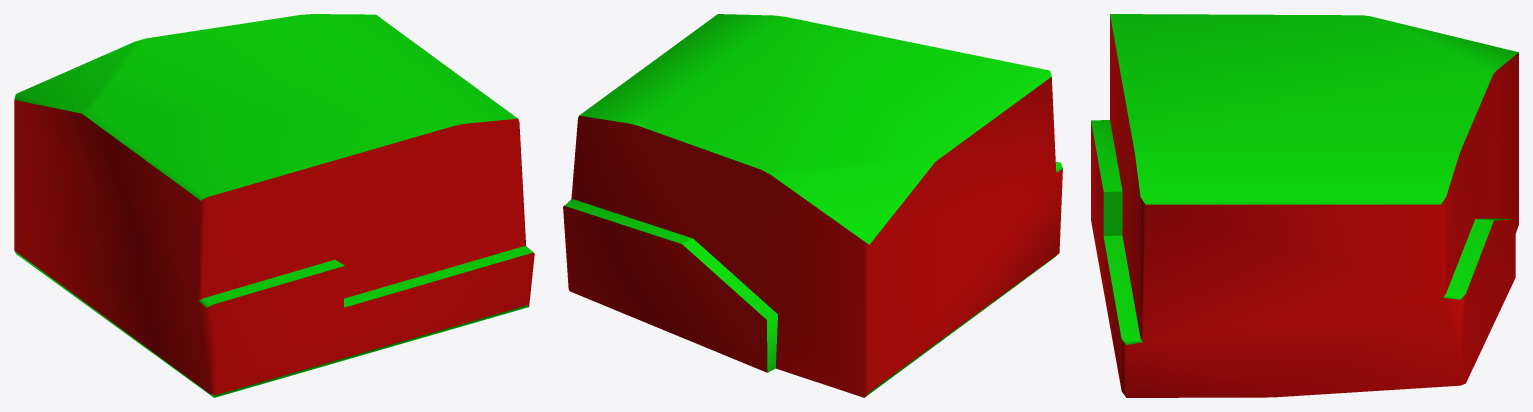
File: M_Ressource_Block_A.FBX
The picture shows the model from 3 angles, left to right: view 1: azimuth 30°, elevation 25°; view 2: azimuth 150°, elevation 25°; view 3: azimuth 270°, elevation 25°; orthographic projection. The views are drawn at different scales.
Visible parts, largest first — view 1: Ressource_Block_A; view 2: Ressource_Block_A; view 3: Ressource_Block_A.
Boxes of the visible parts, <box> form: Ressource_Block_A: <box>14,14,534,397</box>; Ressource_Block_A: <box>563,14,1062,397</box>; Ressource_Block_A: <box>1091,14,1518,397</box>.
Bounding box in the file's own units: 217 × 118 × 218.
